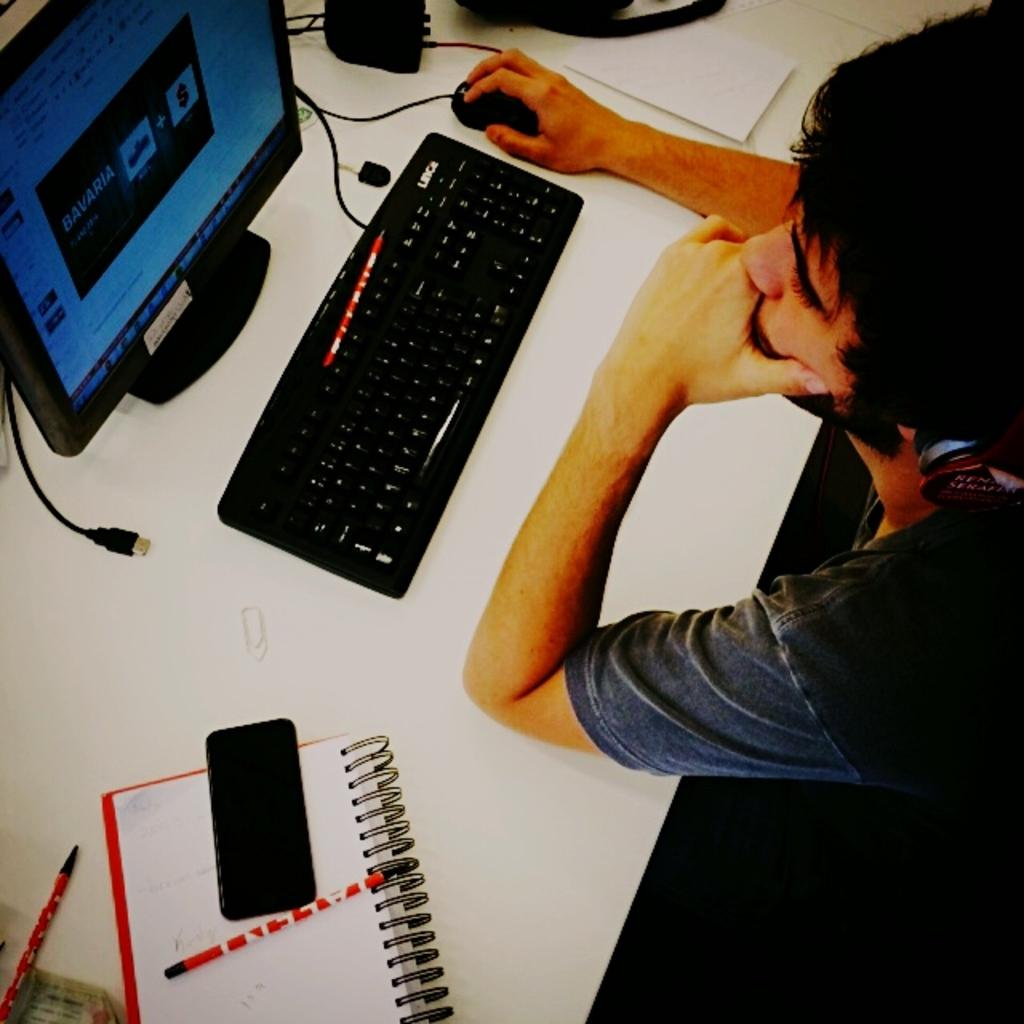Computer-keyboard: (214, 120, 581, 595)
